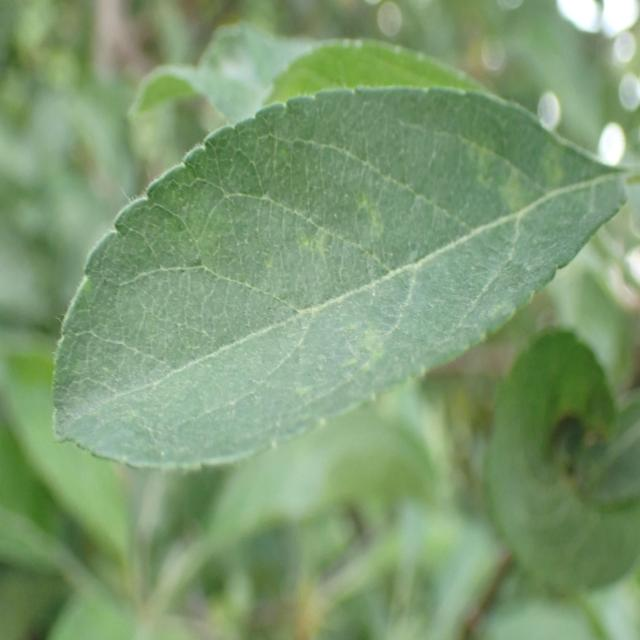scab: (156, 156, 622, 384)
